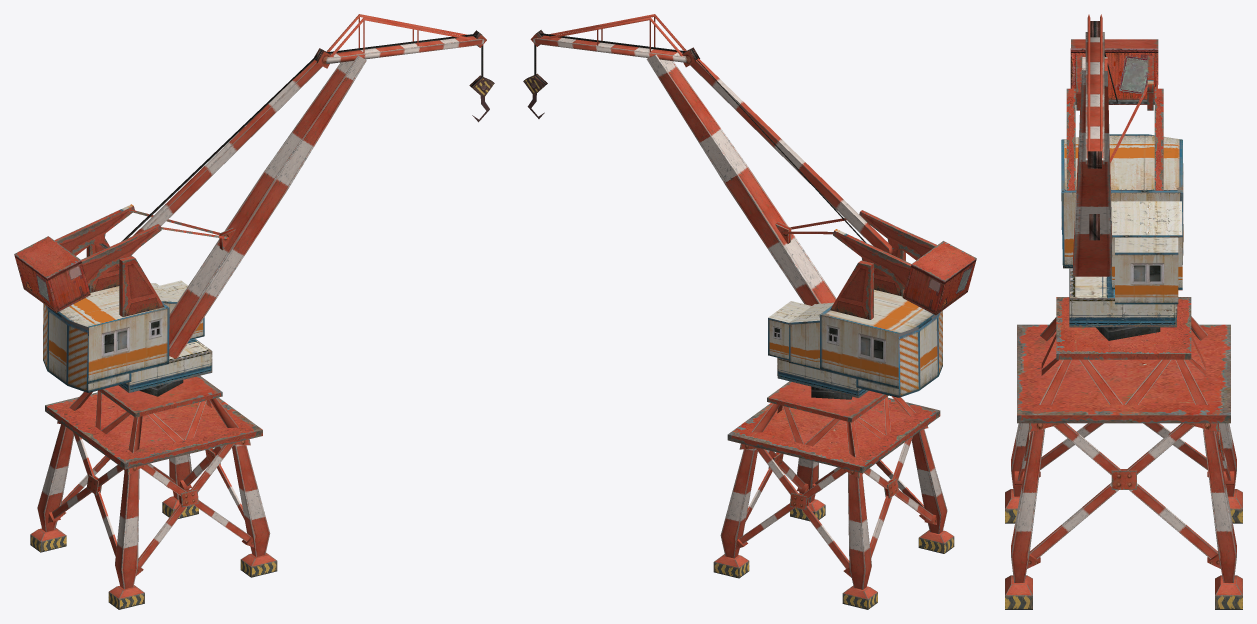
Rendered from Prop_Wj001_lod1.glb.
3 views of the same model, side by side, from view 1: azimuth 30°, elevation 25°; view 2: azimuth 150°, elevation 25°; view 3: azimuth 270°, elevation 25° (orthographic). The views are drawn at different scales.
Visible parts, largest first — view 1: xiutz_wj001_lod1_0; view 2: xiutz_wj001_lod1_0; view 3: xiutz_wj001_lod1_0.
Boxes of the visible parts, x1,y1,x2,y2 form: xiutz_wj001_lod1_0: (14,14,494,609); xiutz_wj001_lod1_0: (523,14,976,609); xiutz_wj001_lod1_0: (1005,14,1242,609).
Bounding box in the file's own units: 68.78 × 72.58 × 23.23.
1 material, 1 textured.
